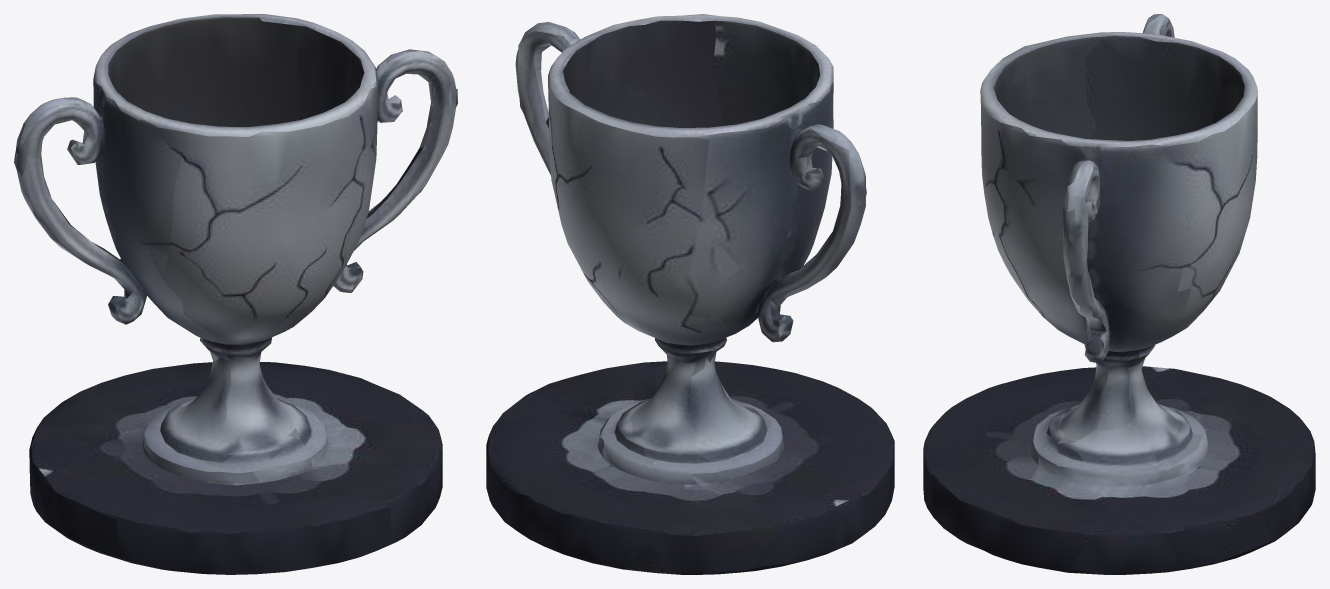
File: hub_cup.glb
3 renders of one model, left to right at view 1: azimuth 30°, elevation 25°; view 2: azimuth 150°, elevation 25°; view 3: azimuth 270°, elevation 25°, orthographic. The views are drawn at different scales.
Visible parts, largest first — view 1: hub_cup; view 2: hub_cup; view 3: hub_cup.
Part boxes in pixels (box(x1,y1,x2,y2)): hub_cup: box(14, 14, 457, 574); hub_cup: box(486, 14, 894, 574); hub_cup: box(923, 14, 1315, 574).
Size of the model in its own units: 0.9875 by 1 by 0.8796.
Materials: 1 (1 with a texture image).
